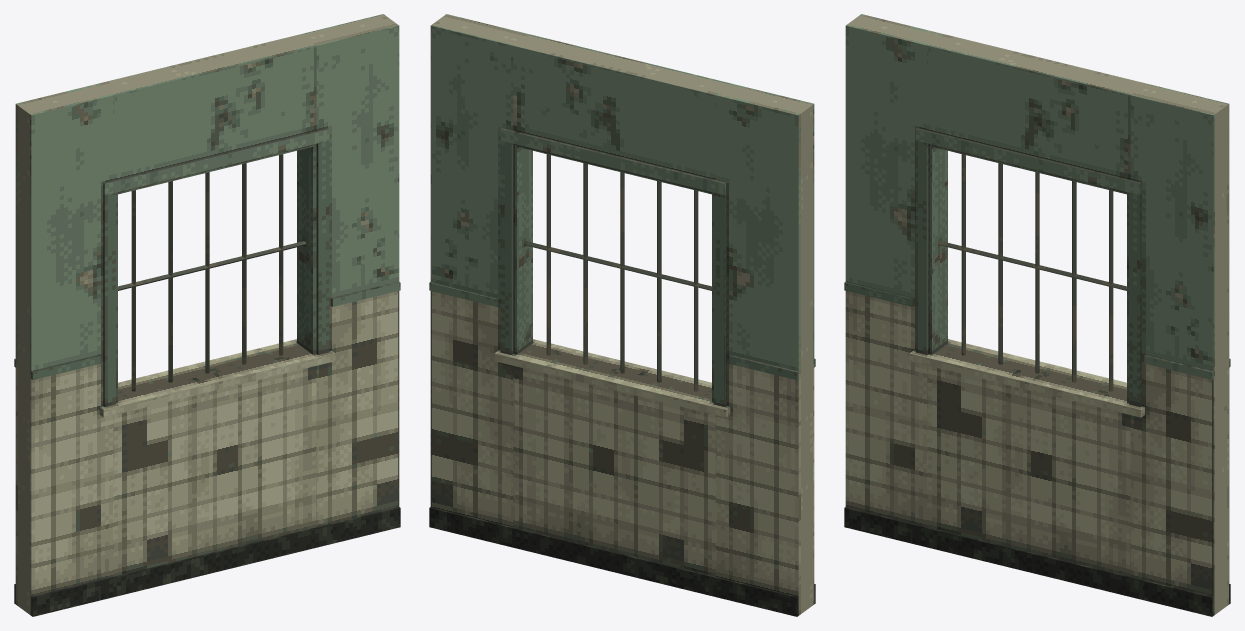
The model's file is Wall_Window_Barred_2m_01.glb.
3 views of the same model, side by side, from view 1: azimuth 30°, elevation 25°; view 2: azimuth 150°, elevation 25°; view 3: azimuth 330°, elevation 25° (orthographic).
Visible parts, largest first — view 1: Wall_Window_Barred_2m_01; view 2: Wall_Window_Barred_2m_01; view 3: Wall_Window_Barred_2m_01.
Part boxes in pixels (box(x1,y1,x2,y2)): Wall_Window_Barred_2m_01: box(14, 14, 400, 616); Wall_Window_Barred_2m_01: box(429, 14, 815, 616); Wall_Window_Barred_2m_01: box(844, 14, 1230, 616).
Bounding box in the file's own units: 2 × 2.6 × 0.23.
1 material, 1 textured.
